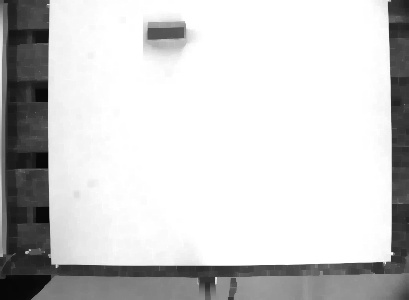b3: (144, 19, 190, 47)
